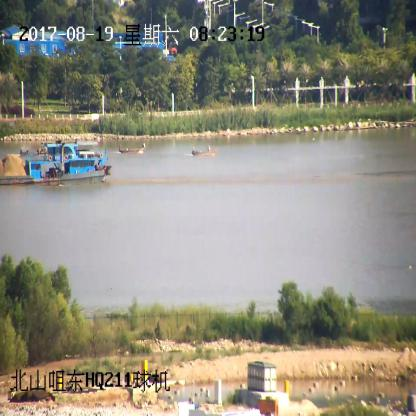Fishing Boat: (192, 145, 219, 158), (118, 143, 146, 155)
